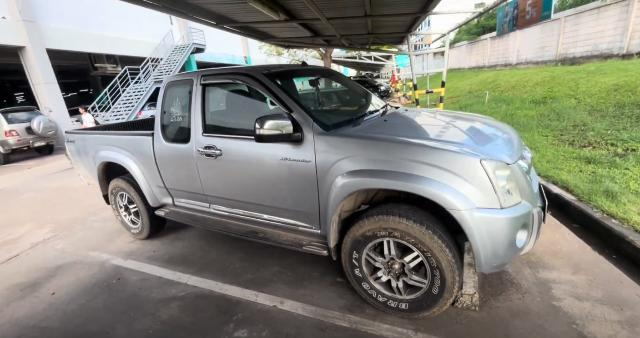pickup-truck: (65, 63, 547, 315)
